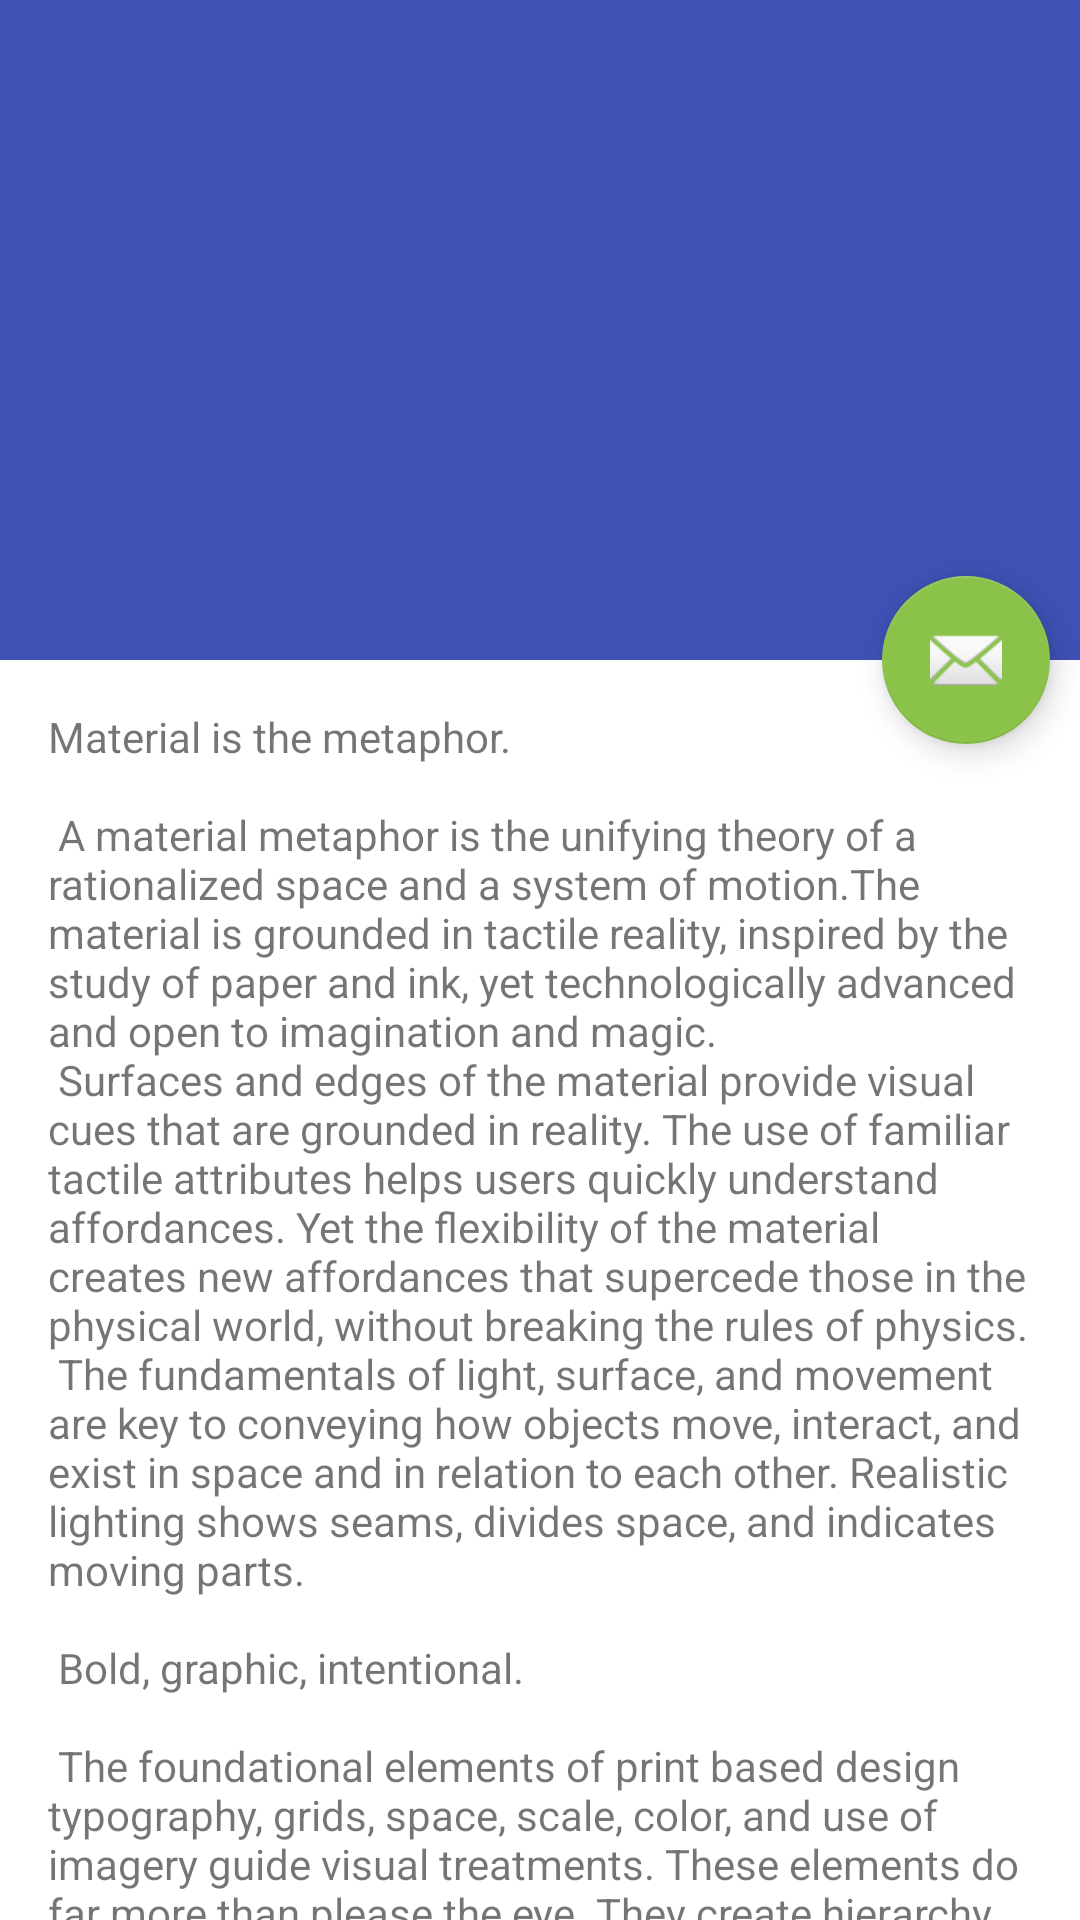

Icon click points for this 1080*1920 phone screenshot, format point (x, y):
email: point (966, 660)
